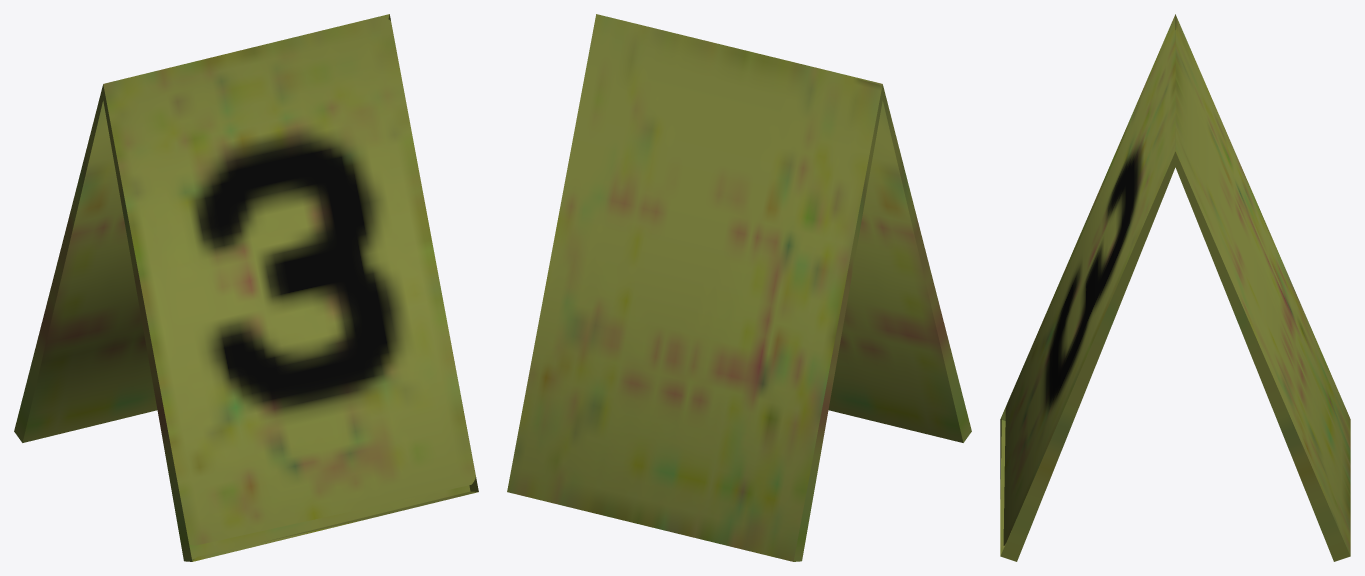
File: evidence_#.FBX
3 views of the same model, side by side, from view 1: azimuth 30°, elevation 25°; view 2: azimuth 150°, elevation 25°; view 3: azimuth 270°, elevation 25° (orthographic).
Parts seen in each view (by area): view 1: evidence_#; view 2: evidence_#; view 3: evidence_#.
Part boxes in pixels (<box>): evidence_#: <box>14,14,478,561</box>; evidence_#: <box>507,14,971,561</box>; evidence_#: <box>1000,14,1350,561</box>.
Bounding box in the file's own units: 5.69 × 7.94 × 6.14.
